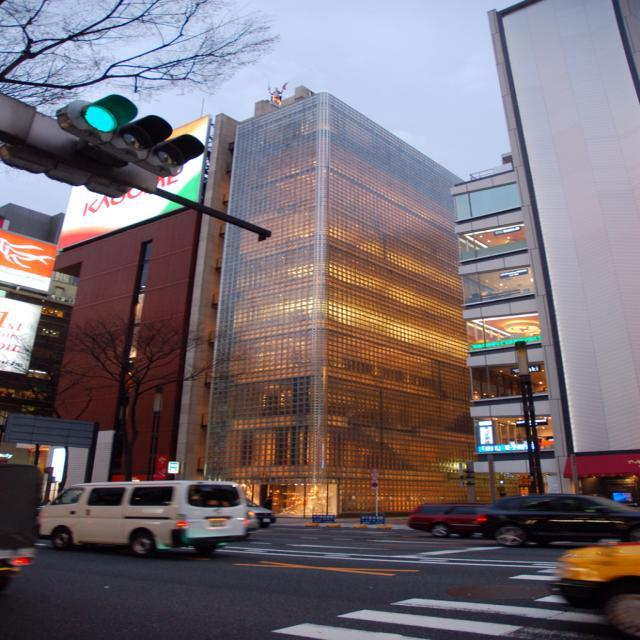traffic light: (46, 93, 216, 176)
